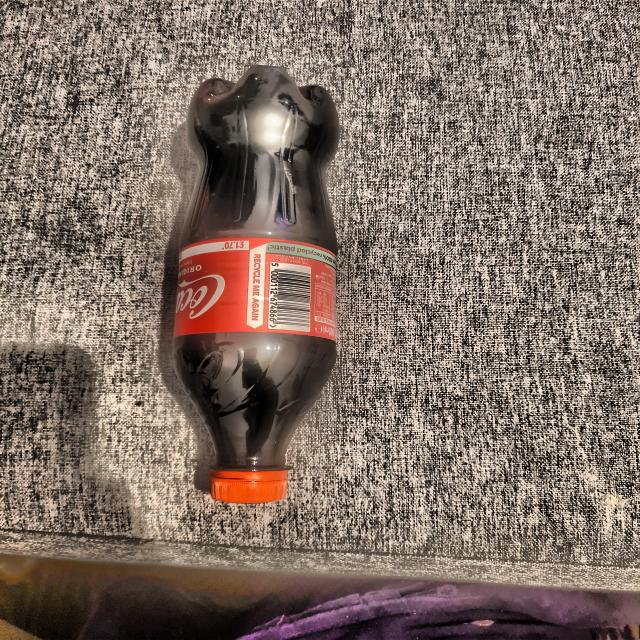coke-bottle: (184, 68, 335, 500)
